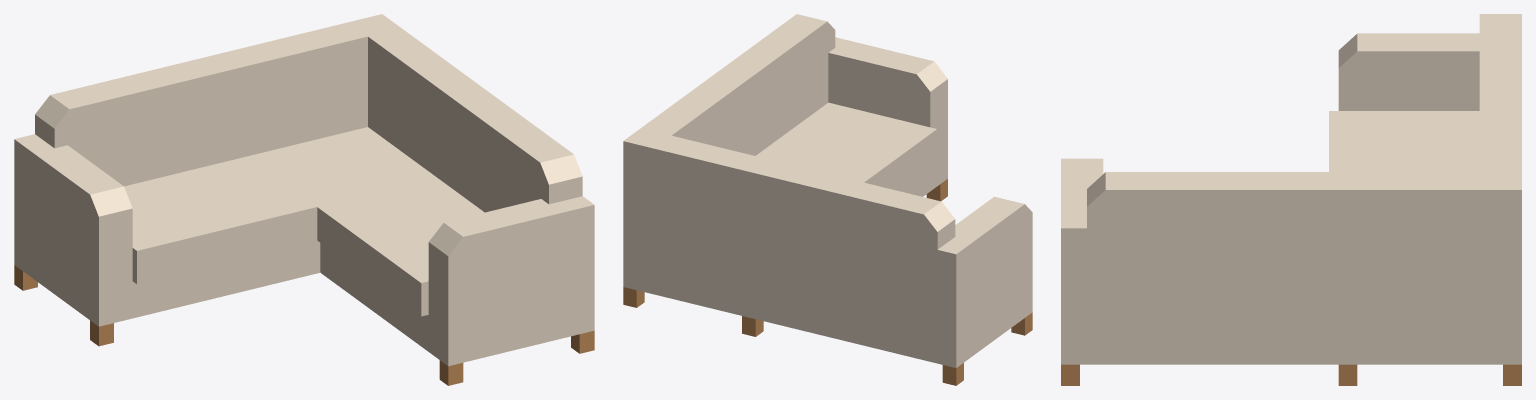
Rendered from kitLoungeSofaCorner.glb.
3 renders of one model, left to right at view 1: azimuth 30°, elevation 25°; view 2: azimuth 150°, elevation 25°; view 3: azimuth 270°, elevation 25°, orthographic. The views are drawn at different scales.
Visible parts, largest first — view 1: kitLoungeSofaCorner_fabric, kitLoungeSofaCorner_wood; view 2: kitLoungeSofaCorner_fabric, kitLoungeSofaCorner_wood; view 3: kitLoungeSofaCorner_fabric, kitLoungeSofaCorner_wood.
Part boxes in pixels (bbox=[...]): kitLoungeSofaCorner_fabric: bbox=[14, 14, 594, 366]; kitLoungeSofaCorner_wood: bbox=[14, 265, 594, 385]; kitLoungeSofaCorner_fabric: bbox=[623, 14, 1032, 367]; kitLoungeSofaCorner_wood: bbox=[623, 179, 1032, 385]; kitLoungeSofaCorner_fabric: bbox=[1061, 14, 1521, 364]; kitLoungeSofaCorner_wood: bbox=[1061, 364, 1521, 385].
Size of the model in its own units: 1.96 by 0.92 by 1.96.
